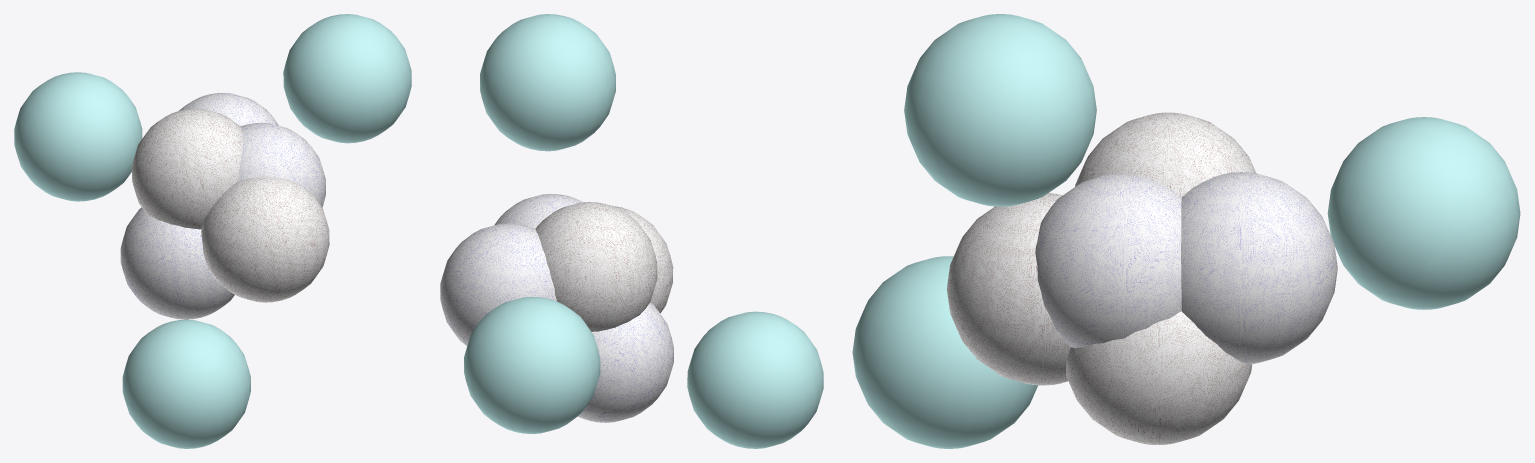
File: Senza+titolo.dae
3 views of the same model, side by side, from view 1: azimuth 30°, elevation 25°; view 2: azimuth 150°, elevation 25°; view 3: azimuth 270°, elevation 25° (orthographic). The views are drawn at different scales.
Visible parts, largest first — view 1: SketchUp (×8); view 2: SketchUp (×8); view 3: SketchUp (×8).
Part boxes in pixels (x1,y1,x2,y2): SketchUp (×8): (14, 14, 411, 448); SketchUp (×8): (440, 14, 823, 448); SketchUp (×8): (852, 14, 1520, 448).
Size of the model in its own units: 146 by 196 by 177.
